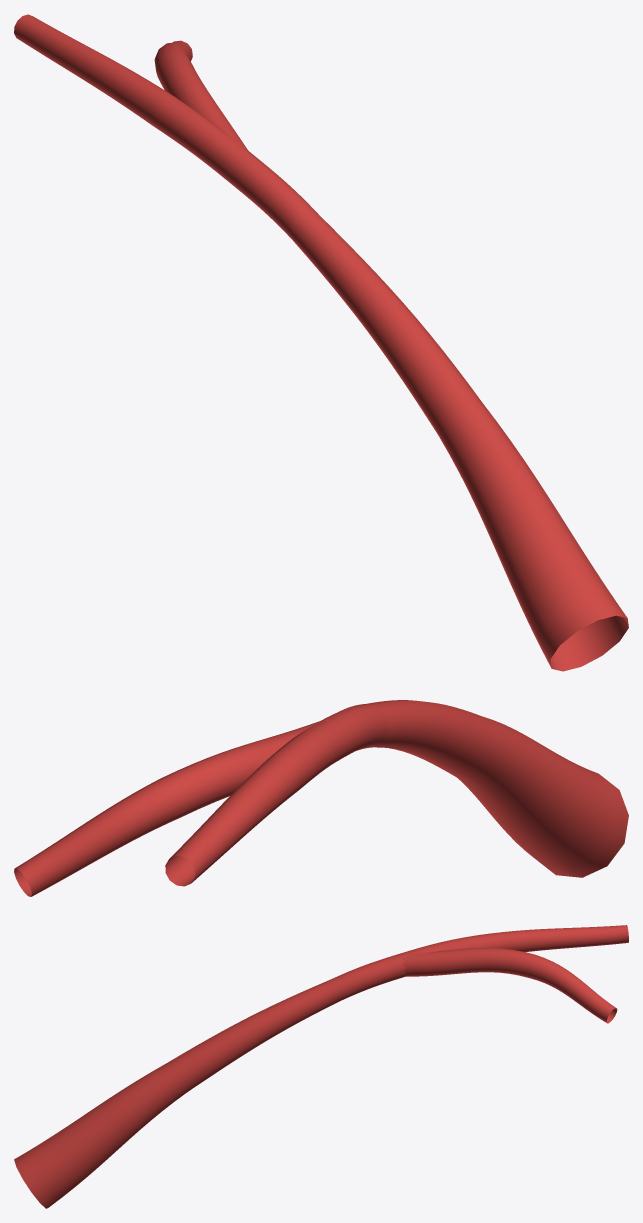
3 views of the same model, one above another, from view 1: azimuth 30°, elevation 25°; view 2: azimuth 150°, elevation 25°; view 3: azimuth 270°, elevation 25° (orthographic). The views are drawn at different scales.
Parts seen in each view (by area): view 1: 右肺后底段动脉; view 2: 右肺后底段动脉; view 3: 右肺后底段动脉.
Part boxes in pixels (x1,y1,x2,y2): 右肺后底段动脉: (14,14,628,671); 右肺后底段动脉: (14,700,628,896); 右肺后底段动脉: (14,925,628,1208).
Size of the model in its own units: 0.0312 by 0.0645 by 0.1483.
